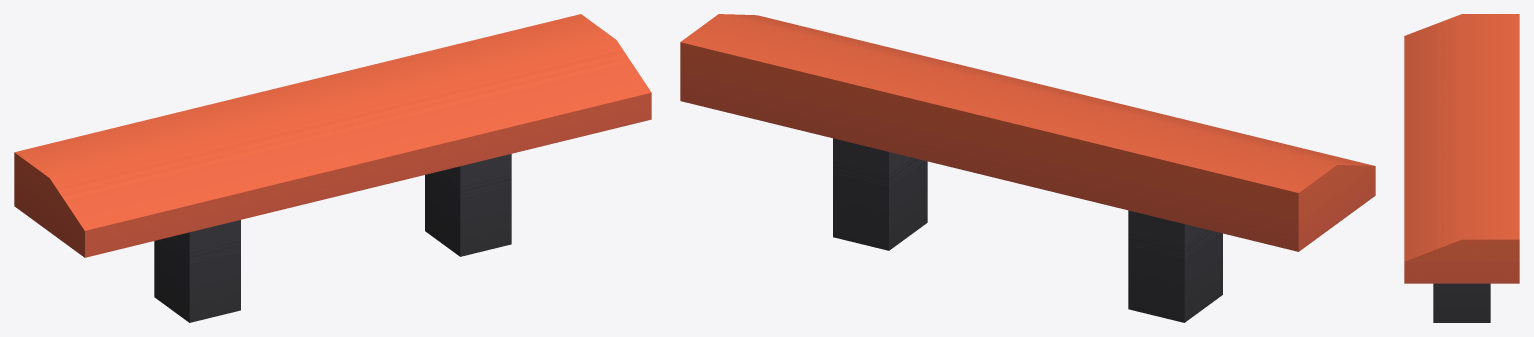
Rendered from debris-spoiler-a.glb.
3 renders of one model, left to right at view 1: azimuth 30°, elevation 25°; view 2: azimuth 150°, elevation 25°; view 3: azimuth 270°, elevation 25°, orthographic. The views are drawn at different scales.
Parts seen in each view (by area): view 1: debris-spoiler-a; view 2: debris-spoiler-a; view 3: debris-spoiler-a.
Boxes of the visible parts, left/top/right/bottom form: debris-spoiler-a: left=14, top=14, right=651, bottom=322; debris-spoiler-a: left=680, top=14, right=1375, bottom=322; debris-spoiler-a: left=1404, top=14, right=1519, bottom=322.
Size of the model in its own units: 1.1 by 0.3 by 0.2374.
Materials: 1 (1 with a texture image).
